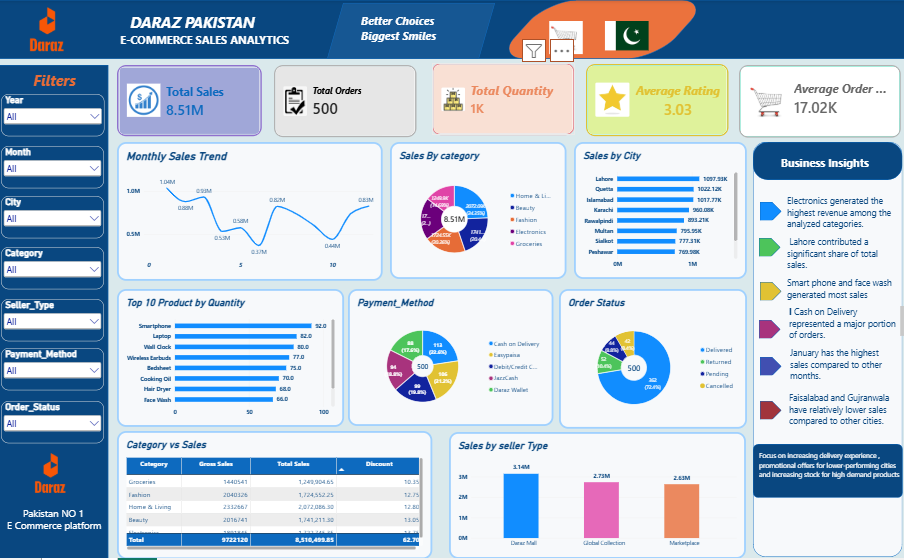

The dashboard page shown, as its layout file describes it:
{"tool":"powerbi","page":{"name":"Page 1","canvas":[1972,1214],"ordinal":0},"visuals":[{"type":"shape","box":[0,140.7,237.7,1091.3],"z":0},{"type":"shape","box":[0,0,1972.9,128.3],"z":1000},{"type":"image","box":[0,10.6,208.3,106.3],"z":2000},{"type":"textbox","box":[224.4,26.7,514.5,144.6],"z":3000},{"type":"shape","box":[714.3,6.4,365.7,121.2],"z":4000},{"type":"textbox","box":[786.6,27.6,221.1,78.7],"z":5000},{"type":"shape","box":[1080,0,467.7,127.6],"z":6000},{"type":"image","box":[1190.6,44.6,87.2,72.3],"z":7000},{"type":"image","box":[1292.6,44.6,146.7,63.8],"z":8000},{"type":"cardVisual","fields":{"Data":["Sum(sheet1.Net Sales)"]},"box":[256,142,315,155],"z":9000},{"type":"cardVisual","fields":{"Data":["Count(sheet1.Order_ID)"]},"box":[598.2,141.4,310.4,157.3],"z":10000},{"type":"cardVisual","fields":{"Data":["Sum(sheet1.Quantity)"]},"box":[941.9,137,310.4,157.3],"z":11000},{"type":"cardVisual","fields":{"Data":["Avg(sheet1.Customer_Rating)"]},"box":[1276.8,139.2,310.4,157.3],"z":12000},{"type":"cardVisual","fields":{"Data":["sheet1.Average Order Value (Net)"]},"box":[1610,142,352,158],"z":13000},{"type":"lineChart","title":"Monthly Sales Trend","fields":{"Category":["sheet1.Month"],"Y":["Sum(sheet1.Net Sales)"]},"box":[256,310,578,302],"z":14000},{"type":"donutChart","title":"Sales By category","fields":{"Category":["sheet1.Category"],"Y":["Sum(sheet1.Net Sales)"]},"box":[850,310,384,298],"z":15000},{"type":"barChart","title":"Sales by City","fields":{"Category":["sheet1.City"],"Y":["Sum(sheet1.Net Sales)"]},"box":[1250,310,376,298],"z":16000},{"type":"barChart","title":"Top 10 Product by Quantity","fields":{"Category":["sheet1.Product"],"Y":["Sum(sheet1.Quantity)"]},"box":[256,628,494,300],"z":17000},{"type":"donutChart","title":"Payment_Method","fields":{"Category":["sheet1.Payment_Method"],"Y":["CountNonNull(sheet1.Payment_Method)"]},"box":[760,628.9,446.7,297.8],"z":18000},{"type":"donutChart","title":"Order Status","fields":{"Category":["sheet1.Order_Status"],"Y":["CountNonNull(sheet1.Order_Status)"]},"box":[1217.8,628.9,408.9,304.4],"z":19000},{"type":"tableEx","title":"Category vs Sales","fields":{"Values":["sheet1.Category","Sum(sheet1.Gross Sales)","Sum(sheet1.Net Sales)","Sum(sheet1.Discount)"]},"box":[255.7,937.1,685.7,278.6],"z":20000},{"type":"columnChart","title":"Sales by seller Type","fields":{"Category":["sheet1.Seller_Type"],"Y":["Sum(sheet1.Net Sales)"]},"box":[980,940,645.7,275.7],"z":21000},{"type":"shape","box":[1640,310,325,902.5],"z":22000},{"type":"shape","box":[1640,310,325,82.5],"z":23000},{"type":"textbox","box":[1702,336.6,238,56],"z":24000},{"type":"textbox","box":[1715,425,250,95.7],"z":25000},{"type":"shape","box":[1655,440,46.9,40.5],"z":26000},{"type":"shape","box":[1654,518,46.9,40.5],"z":27000},{"type":"textbox","box":[1715,512.5,237.5,90],"z":28000},{"type":"shape","box":[1655,612.5,46.9,40.5],"z":29000},{"type":"textbox","box":[1715,602.5,237.5,62.5],"z":30000},{"type":"shape","box":[1654,696,46.9,40.5],"z":31000},{"type":"textbox","box":[1718,666,250,77.5],"z":32000},{"type":"shape","box":[1656,776,46.9,40.5],"z":33000},{"type":"textbox","box":[1722,754,230,85],"z":34000},{"type":"shape","box":[1656,872,46.9,40.5],"z":35000},{"type":"textbox","box":[1718,852,235,80],"z":36000},{"type":"slicer","fields":{"Values":["sheet1.Year"]},"box":[4.6,204.1,224.7,91.7],"z":37000},{"type":"slicer","fields":{"Values":["sheet1.Month"]},"box":[4.3,317.4,223.7,91.6],"z":38000},{"type":"slicer","fields":{"Values":["sheet1.City"]},"box":[4.3,426,223.7,91.6],"z":39000},{"type":"slicer","fields":{"Values":["sheet1.Category"]},"box":[4.3,536.8,223.7,91.6],"z":40000},{"type":"slicer","fields":{"Values":["sheet1.Seller_Type"]},"box":[4.3,649.7,223.7,91.6],"z":41000},{"type":"slicer","fields":{"Values":["sheet1.Payment_Method"]},"box":[4.6,756.8,223.7,91.6],"z":42000},{"type":"slicer","fields":{"Values":["sheet1.Order_Status"]},"box":[5,872.5,223.7,91.6],"z":43000},{"type":"textbox","box":[31.1,151.3,178,53.4],"z":44000},{"type":"image","box":[31.5,982.2,161.6,96],"z":45000},{"type":"textbox","box":[17.5,1100,206.1,72.8],"z":46000},{"type":"shape","box":[1640,965.7,325.7,117.1],"z":47000},{"type":"textbox","box":[1654.3,981.4,307.1,85.7],"z":48000}]}

Visuals, with their boxes in screenshot pixels (x1, y1, x2, y2), scaled from the page's 1972x1214 canvas onto the 904x560 screenshot:
shape: locate(0, 65, 109, 559)
shape: locate(0, 0, 903, 59)
image: locate(0, 5, 95, 54)
textbox: locate(103, 12, 339, 79)
shape: locate(327, 3, 495, 59)
textbox: locate(361, 13, 462, 49)
shape: locate(495, 0, 709, 59)
image: locate(546, 21, 586, 54)
image: locate(593, 21, 660, 50)
cardVisual - Sum(sheet1.Net Sales): locate(117, 66, 262, 137)
cardVisual - Count(sheet1.Order_ID): locate(274, 65, 417, 138)
cardVisual - Sum(sheet1.Quantity): locate(432, 63, 574, 136)
cardVisual - Avg(sheet1.Customer_Rating): locate(585, 64, 728, 137)
cardVisual - sheet1.Average Order Value (Net): locate(738, 66, 899, 138)
"Monthly Sales Trend" lineChart: locate(117, 143, 382, 282)
"Sales By category" donutChart: locate(390, 143, 566, 280)
"Sales by City" barChart: locate(573, 143, 745, 280)
"Top 10 Product by Quantity" barChart: locate(117, 290, 344, 428)
"Payment_Method" donutChart: locate(348, 290, 553, 427)
"Order Status" donutChart: locate(558, 290, 746, 431)
"Category vs Sales" tableEx: locate(117, 432, 432, 559)
"Sales by seller Type" columnChart: locate(449, 434, 745, 559)
shape: locate(752, 143, 901, 559)
shape: locate(752, 143, 901, 181)
textbox: locate(780, 155, 889, 181)
textbox: locate(786, 196, 901, 240)
shape: locate(759, 203, 780, 222)
shape: locate(758, 239, 780, 258)
textbox: locate(786, 236, 895, 278)
shape: locate(759, 283, 780, 301)
textbox: locate(786, 278, 895, 307)
shape: locate(758, 321, 780, 340)
textbox: locate(788, 307, 902, 343)
shape: locate(759, 358, 781, 377)
textbox: locate(789, 348, 895, 387)
shape: locate(759, 402, 781, 421)
textbox: locate(788, 393, 895, 430)
slicer - sheet1.Year: locate(2, 94, 105, 136)
slicer - sheet1.Month: locate(2, 146, 105, 189)
slicer - sheet1.City: locate(2, 197, 105, 239)
slicer - sheet1.Category: locate(2, 248, 105, 290)
slicer - sheet1.Seller_Type: locate(2, 300, 105, 342)
slicer - sheet1.Payment_Method: locate(2, 349, 105, 391)
slicer - sheet1.Order_Status: locate(2, 402, 105, 445)
textbox: locate(14, 70, 96, 94)
image: locate(14, 453, 89, 497)
textbox: locate(8, 507, 103, 541)
shape: locate(752, 445, 901, 499)
textbox: locate(758, 453, 899, 492)
